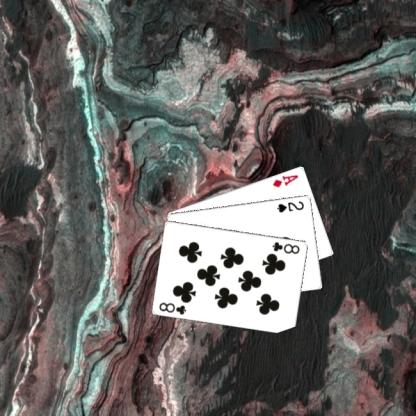2S: (275, 198, 305, 213)
8C: (270, 239, 302, 255), (156, 300, 188, 316)
AD: (270, 172, 300, 188)
